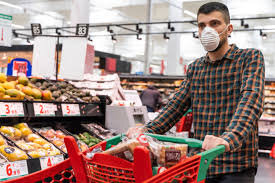with_basket: (65, 126, 228, 181)
with_mask: (197, 2, 232, 53)
